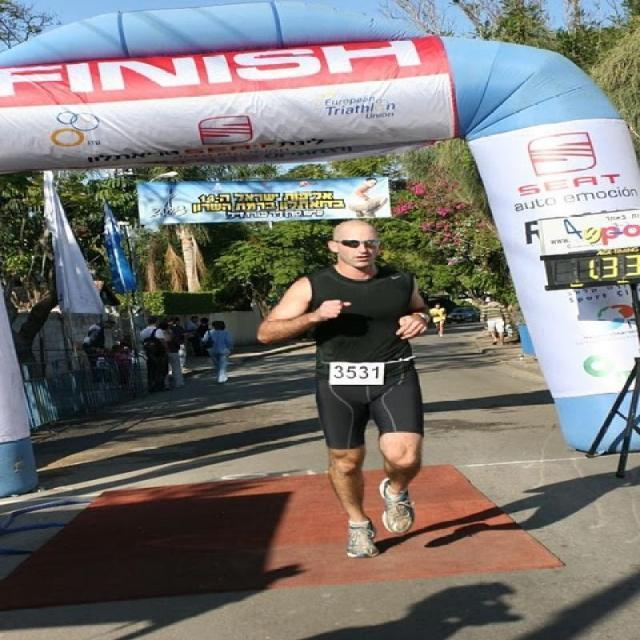dorsal: (326, 357, 389, 388)
